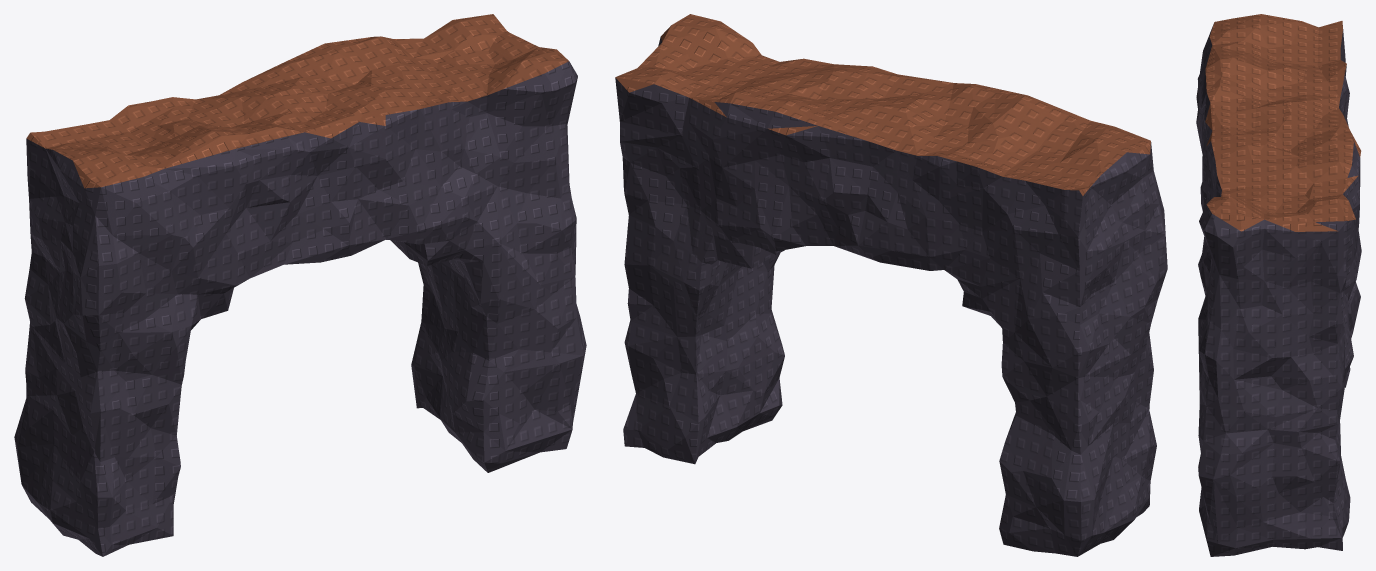
The model's file is BasaltArch.glb.
3 views of the same model, side by side, from view 1: azimuth 30°, elevation 25°; view 2: azimuth 150°, elevation 25°; view 3: azimuth 270°, elevation 25° (orthographic). The views are drawn at different scales.
Parts seen in each view (by area): view 1: BasaltArch_Rock, BasaltArch_Top; view 2: BasaltArch_Rock, BasaltArch_Top; view 3: BasaltArch_Rock, BasaltArch_Top.
Part boxes in pixels (<box>): BasaltArch_Rock: <box>14,61,586,556</box>; BasaltArch_Top: <box>26,14,568,188</box>; BasaltArch_Rock: <box>615,37,1167,556</box>; BasaltArch_Top: <box>615,14,1150,195</box>; BasaltArch_Rock: <box>1196,24,1361,556</box>; BasaltArch_Top: <box>1205,14,1361,231</box>.
Size of the model in its own units: 33.79 by 25.51 by 10.79.
Materials: 2 (2 with a texture image).
